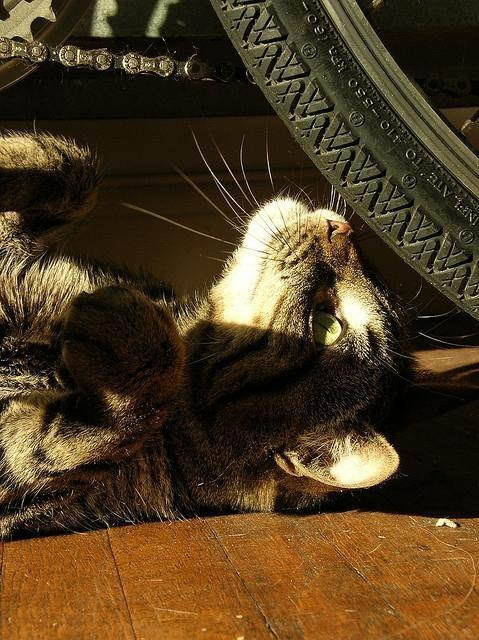bicycle: (3, 0, 476, 325)
